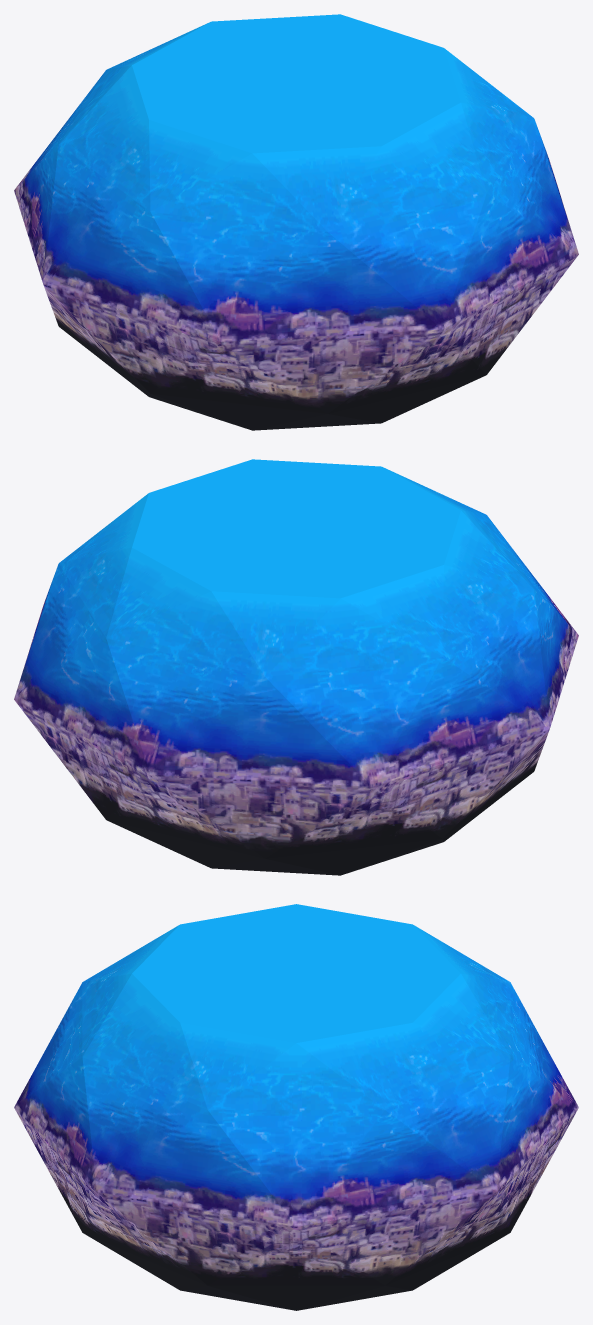
The picture shows the model from 3 angles, top to bottom: view 1: azimuth 30°, elevation 25°; view 2: azimuth 150°, elevation 25°; view 3: azimuth 270°, elevation 25°; orthographic projection. The views are drawn at different scales.
Visible parts, largest first — view 1: vr08; view 2: vr08; view 3: vr08.
Part boxes in pixels (x1=…): vr08: x1=14, y1=14, x2=578, y2=430; vr08: x1=14, y1=459, x2=578, y2=875; vr08: x1=14, y1=904, x2=578, y2=1310.
Size of the model in its own units: 117964 by 61688 by 117964.
3 materials, 3 textured.
